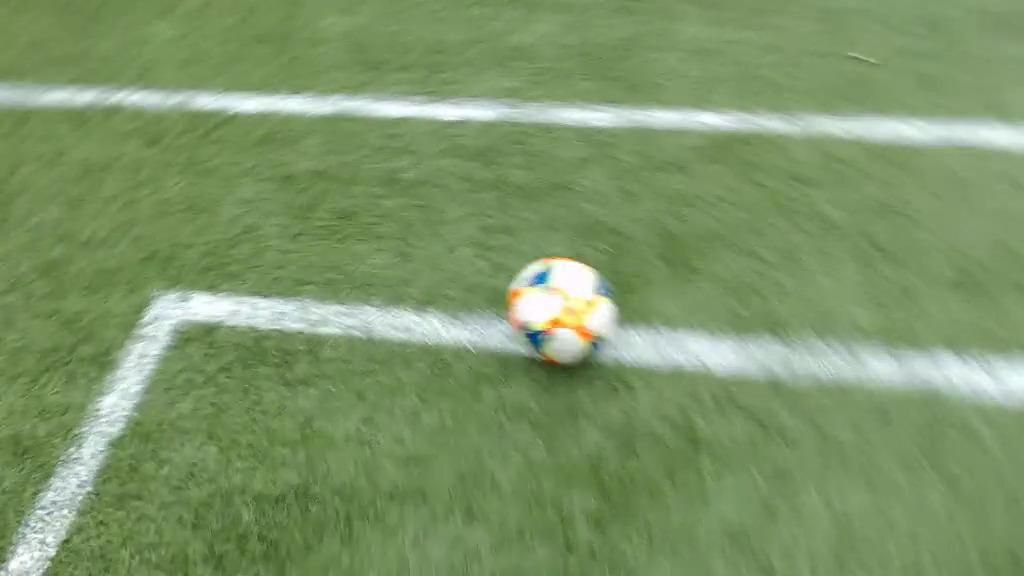ball: (507, 256, 616, 367)
